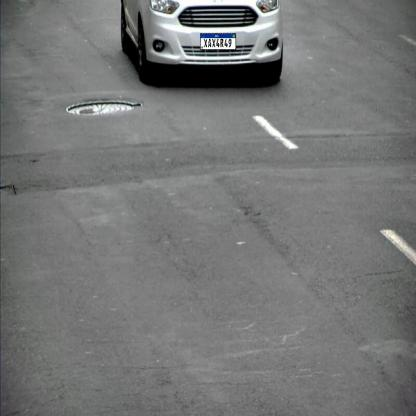PlacaM: (200, 33, 236, 50)
